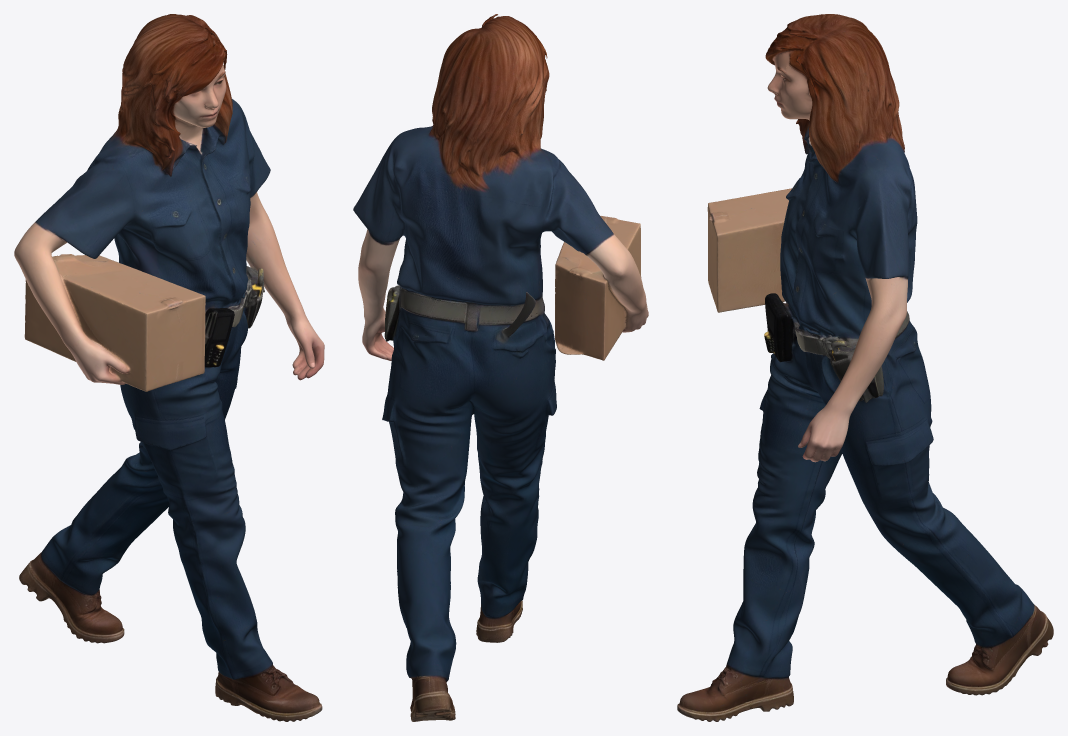
The picture shows the model from 3 angles, left to right: view 1: azimuth 30°, elevation 25°; view 2: azimuth 150°, elevation 25°; view 3: azimuth 270°, elevation 25°; orthographic projection. The views are drawn at different scales.
Visible parts, largest first — view 1: Object_5, Object_7, Object_6; view 2: Object_6, Object_5, Object_7; view 3: Object_6, Object_5, Object_7.
Part boxes in pixels (box(x1,y1,x2,y2)): Object_5: box(14, 14, 322, 721); Object_7: box(36, 24, 322, 695); Object_6: box(19, 15, 324, 643); Object_6: box(353, 14, 641, 721); Object_5: box(353, 25, 648, 642); Object_7: box(374, 14, 648, 642); Object_6: box(768, 14, 1053, 695); Object_5: box(677, 16, 908, 721); Object_7: box(727, 18, 832, 709).
Size of the model in its own units: 0.8622 by 1.9 by 0.9623.
1 material, 1 textured.
